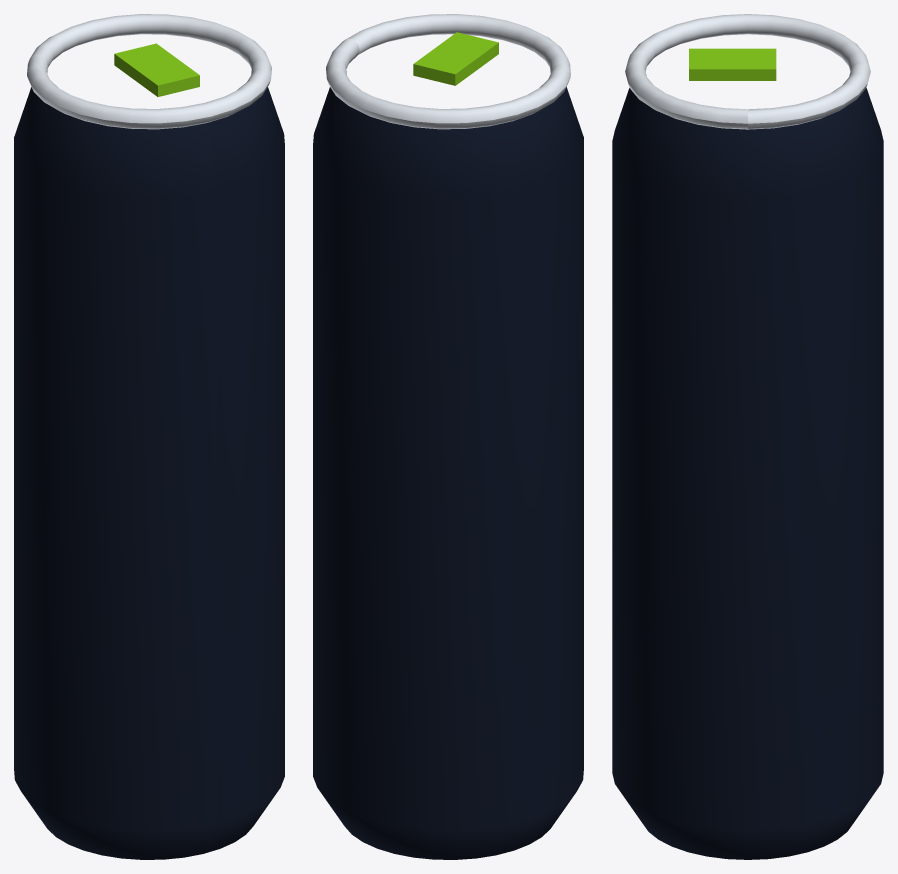
Rendered from energy-can.glb.
3 renders of one model, left to right at view 1: azimuth 30°, elevation 25°; view 2: azimuth 150°, elevation 25°; view 3: azimuth 270°, elevation 25°, orthographic.
Parts seen in each view (by area): view 1: Slim_Can_Body, Slim_Rim, Slim_Pull_Tab; view 2: Slim_Can_Body, Slim_Rim, Slim_Pull_Tab; view 3: Slim_Can_Body, Slim_Rim, Slim_Pull_Tab.
Boxes of the visible parts, x1,y1,x2,y2 form: Slim_Can_Body: (14, 87, 284, 859); Slim_Rim: (27, 14, 271, 129); Slim_Pull_Tab: (114, 43, 199, 96); Slim_Can_Body: (313, 87, 583, 859); Slim_Rim: (326, 14, 570, 129); Slim_Pull_Tab: (413, 32, 498, 85); Slim_Can_Body: (612, 88, 883, 859); Slim_Rim: (625, 14, 870, 129); Slim_Pull_Tab: (689, 48, 776, 80).
Bounding box in the file's own units: 0.053 × 0.1627 × 0.053.
